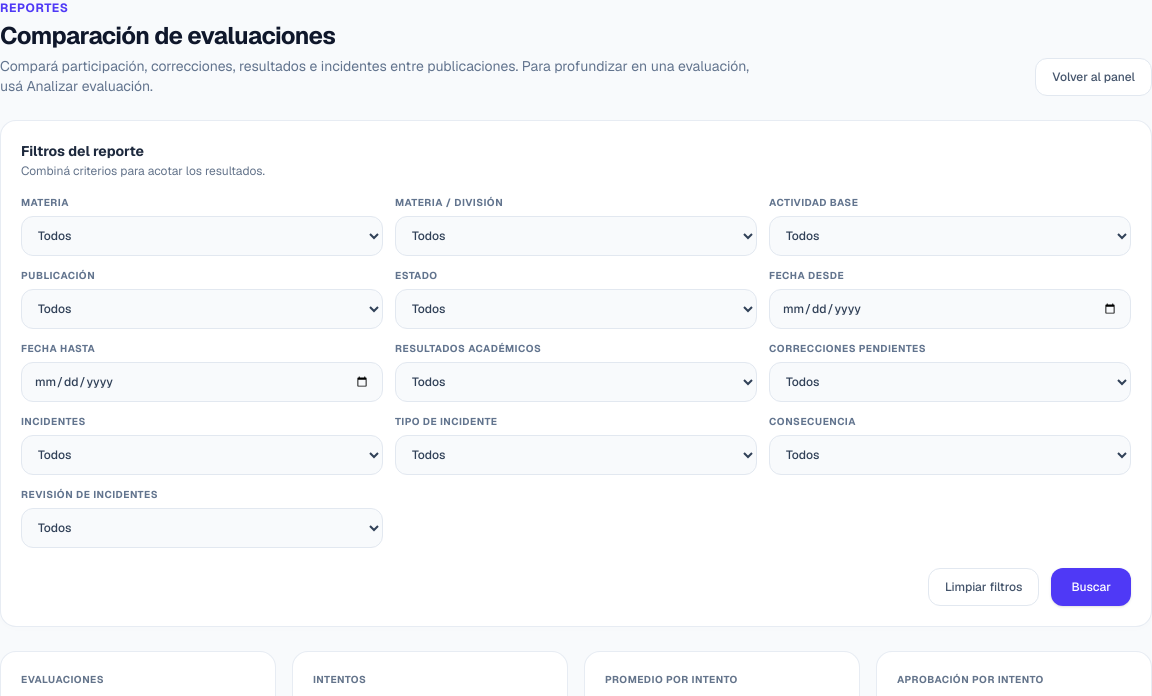
Test: reportes docentes › valida el rango temporal antes de consultar otra página
Type "2026-08-20" into the date field labelled "Fecha desde". click: (950, 309)
box: [769,289,1131,329]
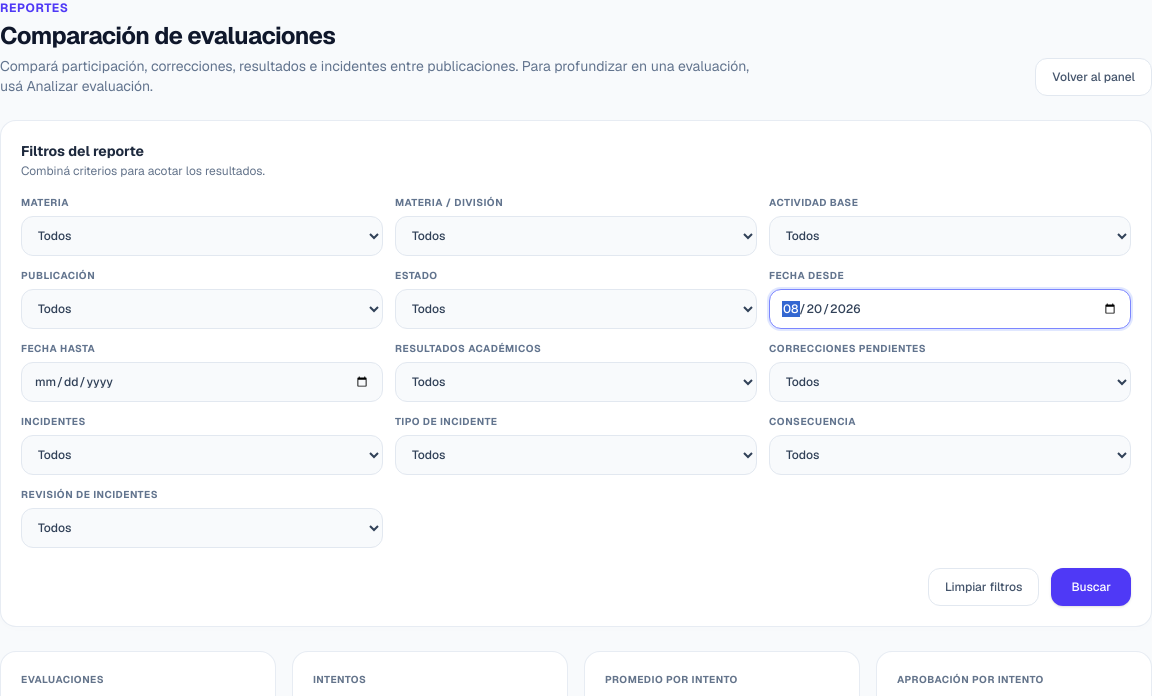
Type "2026-08-10" into the date field labelled "Fecha hasta". click: (202, 382)
box: [21,362,383,402]
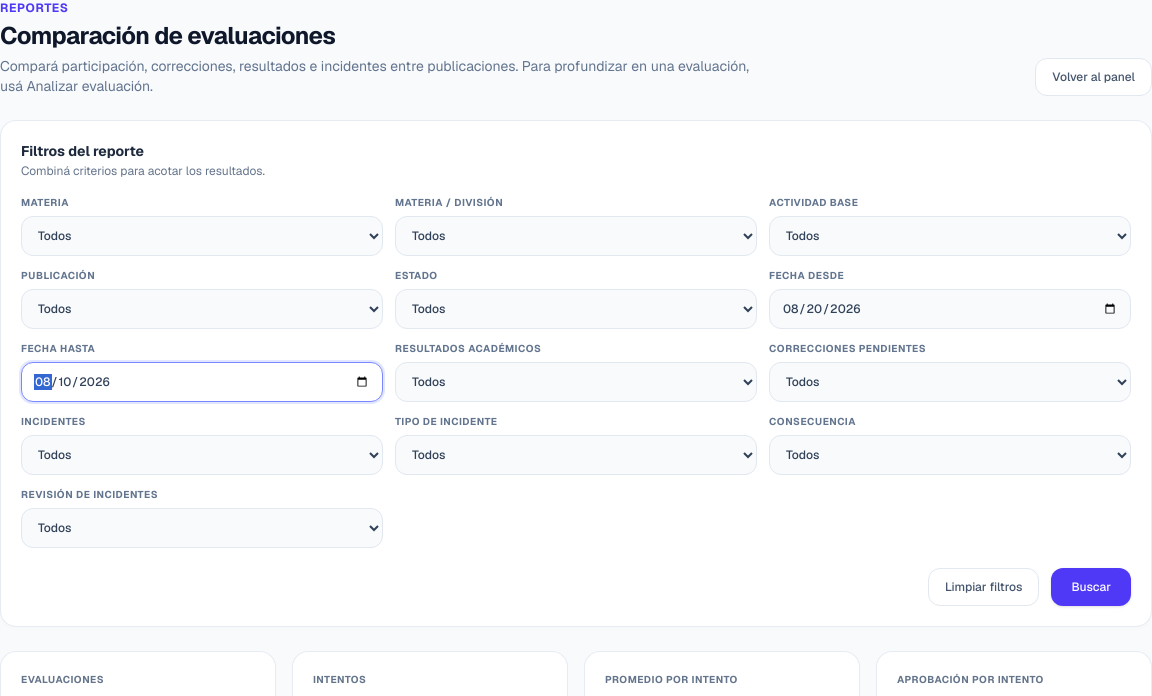
Click the button "Buscar". click: (1091, 587)
box: [1051,568,1131,606]
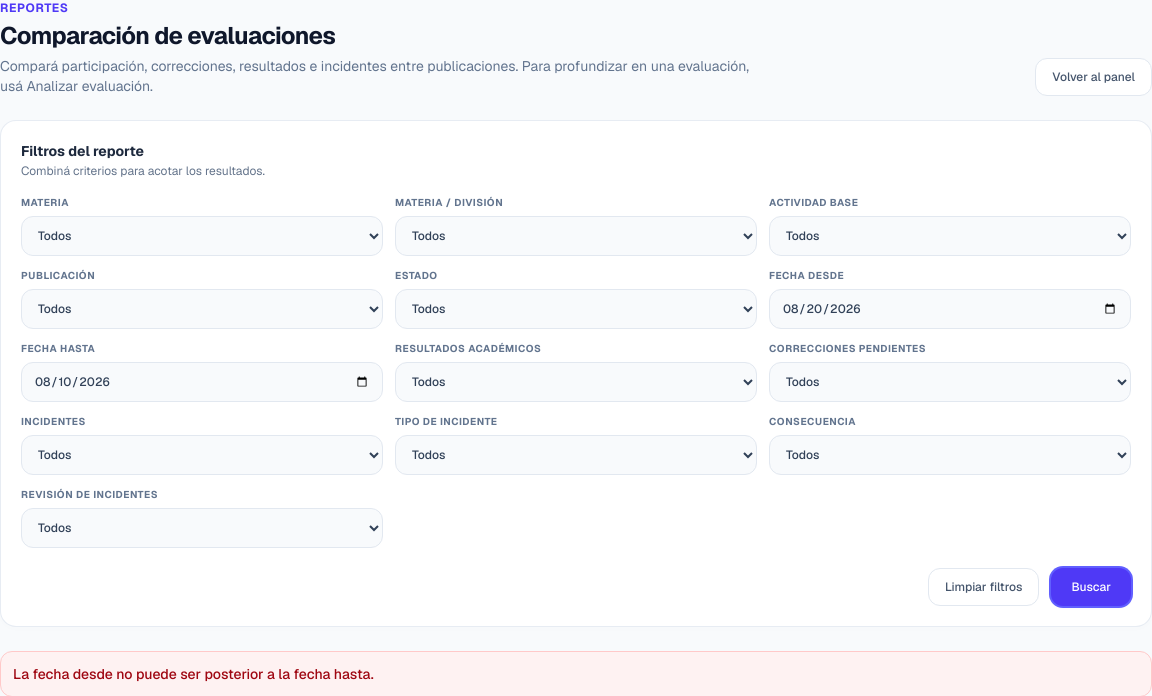
Expected: the text "La fecha desde no puede ser posterior a la fecha hasta." is shown, [13,664,374,684]
